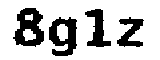1: (82, 3, 113, 51)
8: (11, 4, 45, 49)
g: (46, 12, 81, 57)
z: (115, 16, 148, 49)
